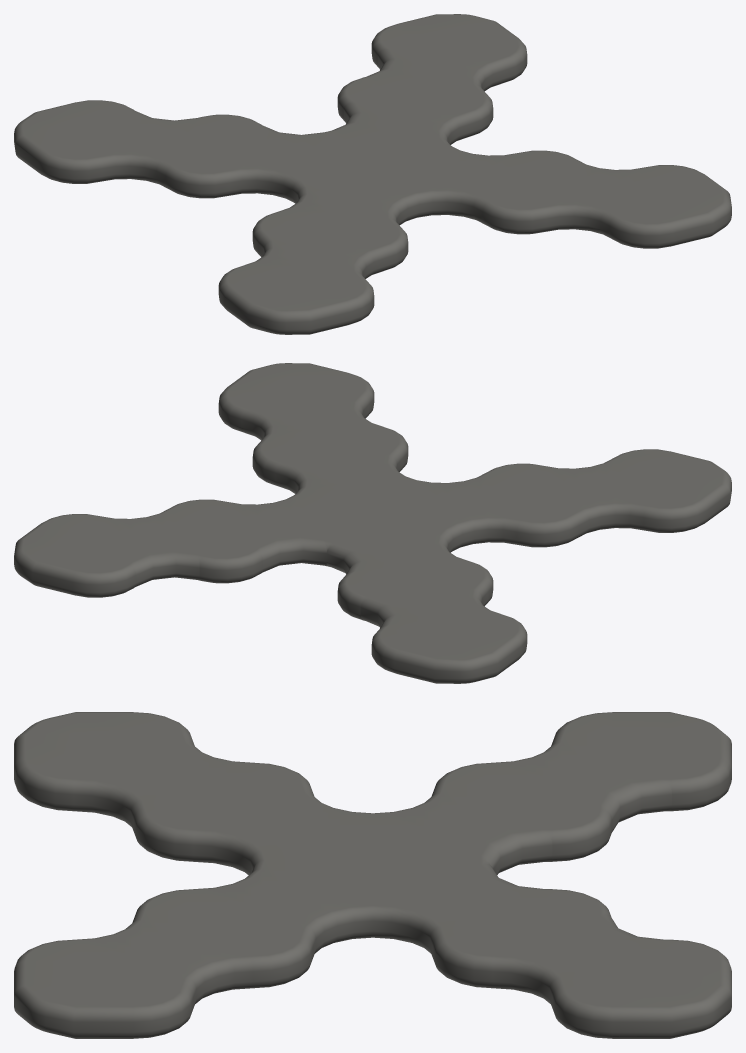
Rendered from GroundTop.obj.
3 views of the same model, one above another, from view 1: azimuth 30°, elevation 25°; view 2: azimuth 150°, elevation 25°; view 3: azimuth 270°, elevation 25° (orthographic). The views are drawn at different scales.
Visible parts, largest first — view 1: pCube2; view 2: pCube2; view 3: pCube2.
Boxes of the visible parts, bbox=[...] form: pCube2: bbox=[14, 14, 731, 334]; pCube2: bbox=[14, 363, 731, 683]; pCube2: bbox=[14, 712, 731, 1038].
Size of the model in its own units: 9.42 by 0.4467 by 9.42.
